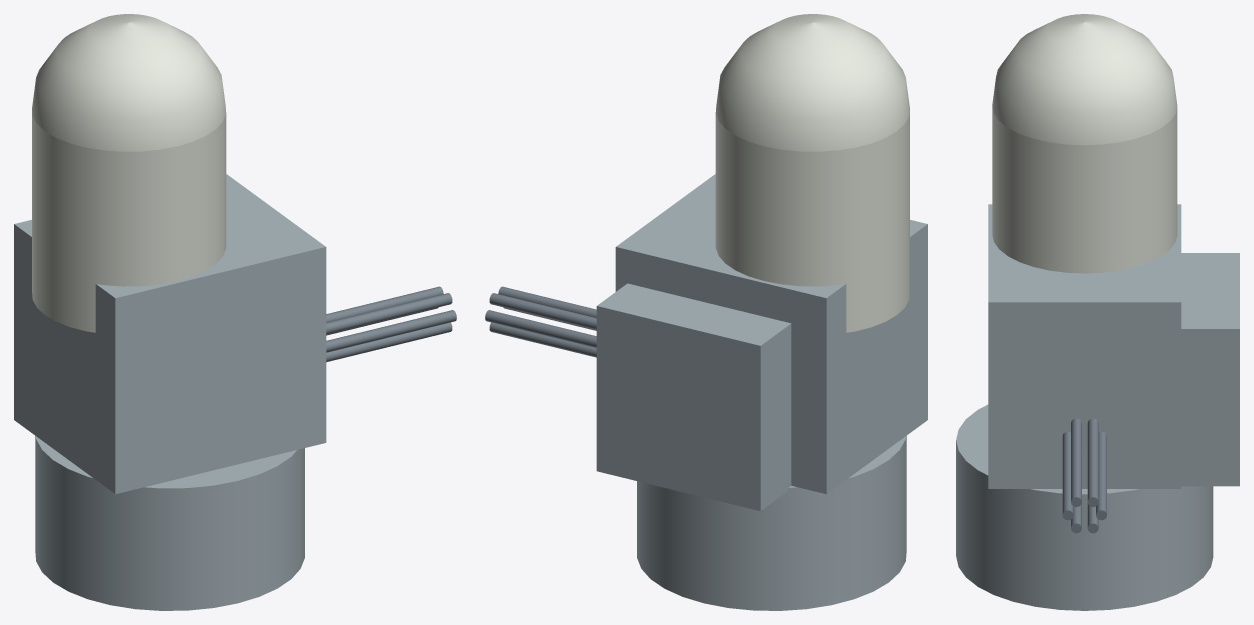
File: phalanx_ciws.glb
3 views of the same model, side by side, from view 1: azimuth 30°, elevation 25°; view 2: azimuth 150°, elevation 25°; view 3: azimuth 270°, elevation 25° (orthographic). The views are drawn at different scales.
Parts seen in each view (by area): view 1: phalanx_ciws; view 2: phalanx_ciws; view 3: phalanx_ciws.
Part boxes in pixels (x1,y1,x2,y2): phalanx_ciws: (14, 14, 456, 610); phalanx_ciws: (485, 14, 927, 610); phalanx_ciws: (956, 14, 1239, 610).
Bounding box in the file's own units: 7.74 × 10 × 4.99.
